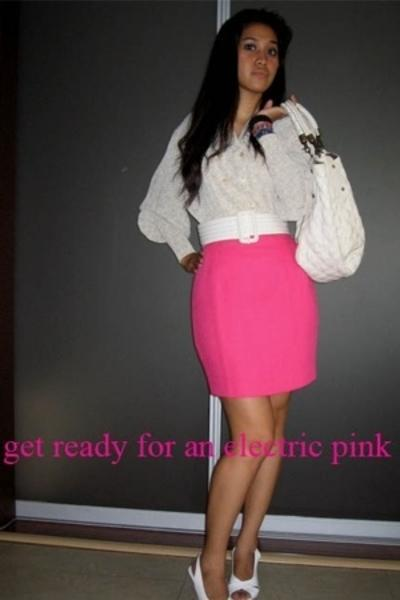bag: (280, 108, 364, 281)
shirt: (138, 117, 328, 261)
shoe: (204, 574, 249, 599)
skirt: (192, 234, 316, 400)
